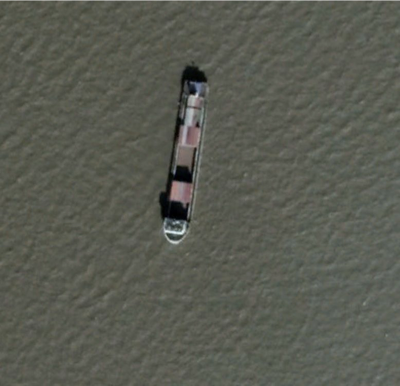boat: (162, 78, 212, 245)
